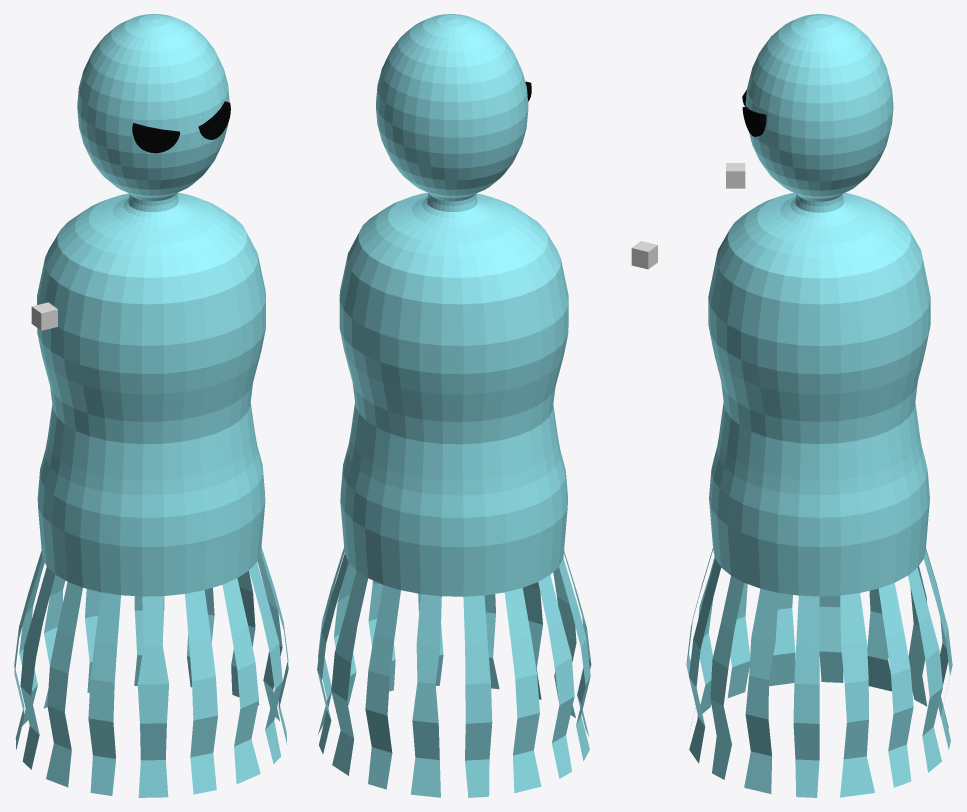
Rendered from ghost.fbx.
3 renders of one model, left to right at view 1: azimuth 30°, elevation 25°; view 2: azimuth 150°, elevation 25°; view 3: azimuth 270°, elevation 25°, orthographic.
Parts seen in each view (by area): view 1: Ghost, Cylinder.003, Cylinder.002, Cube; view 2: Ghost, Cube; view 3: Ghost, Cube, Cylinder.002.
Boxes of the visible parts, x1,y1,x2,y2 form: Ghost: [14, 14, 288, 797]; Cylinder.003: [132, 123, 179, 152]; Cylinder.002: [198, 101, 230, 139]; Cube: [31, 302, 57, 330]; Ghost: [317, 14, 591, 797]; Cube: [631, 241, 657, 269]; Ghost: [686, 14, 952, 797]; Cube: [726, 163, 745, 188]; Cylinder.002: [742, 106, 766, 136].
Size of the model in its own units: 174 by 433 by 145.
